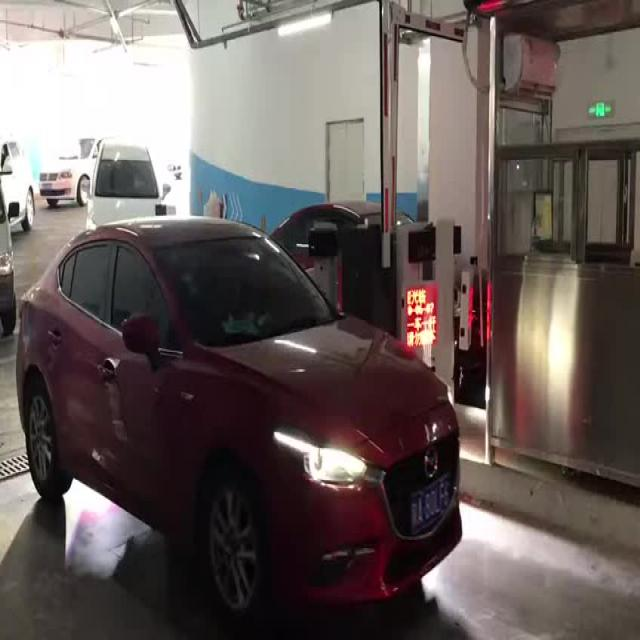CarIn: (19, 259, 482, 621), (250, 167, 429, 269), (91, 129, 160, 240), (40, 120, 100, 200)
GateOpened: (390, 2, 470, 246)
